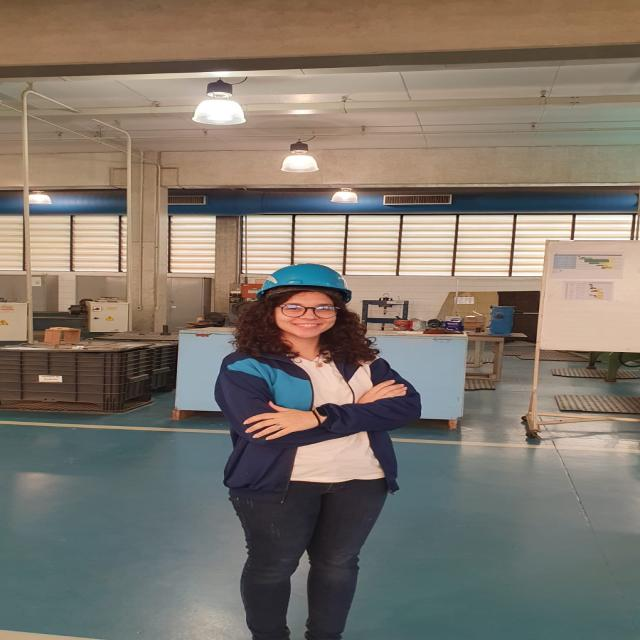sem_oculos: (246, 296, 366, 327)
